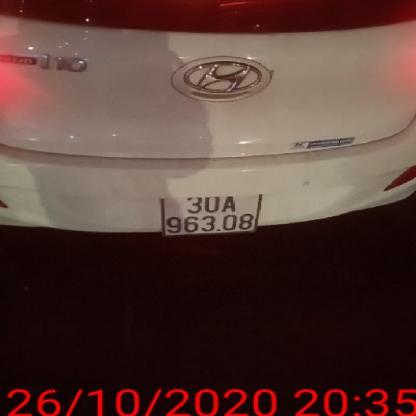biensoxe: (146, 168, 270, 246)
